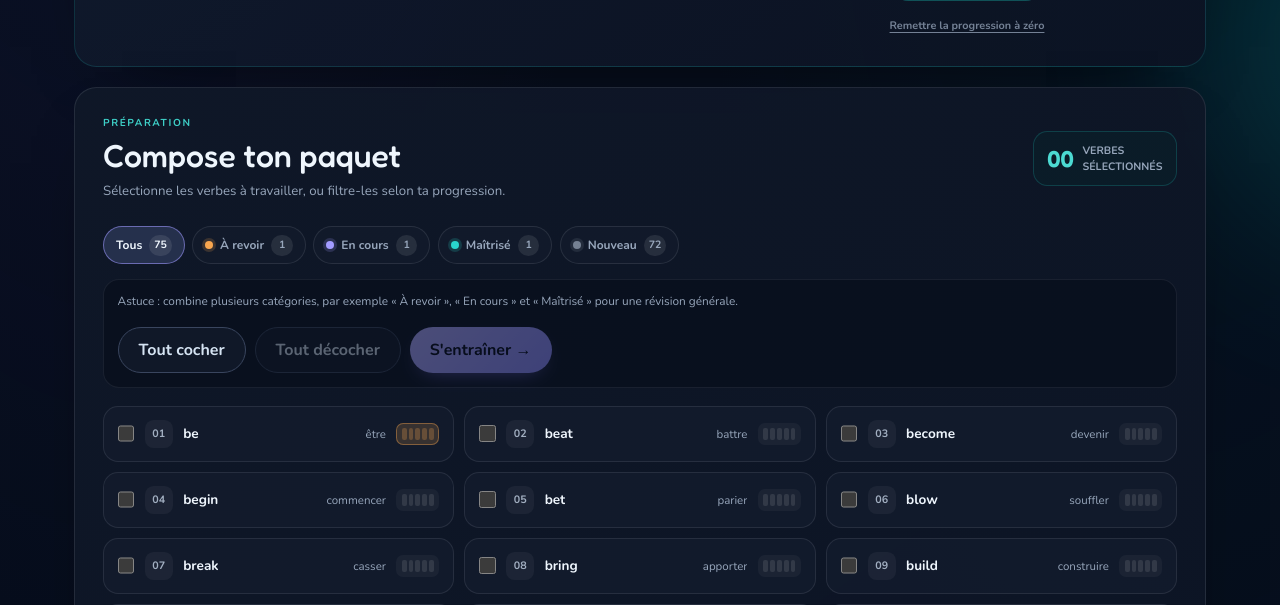
Test case: VerbApp › cumule plusieurs filtres pour une révision générale
(page scrolled)
What coordinates should you click on to do the following:
click the button "À revoir 1"
I would click on:
 (249, 245)
Its box is [192,226,306,264].
(page scrolled)
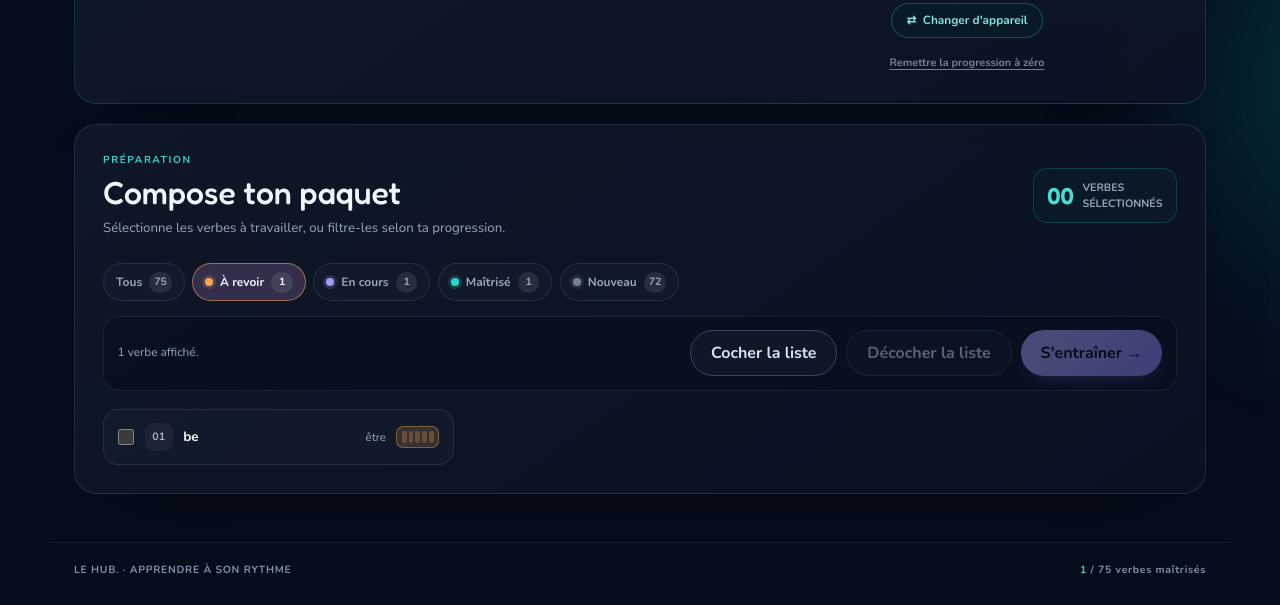
What coordinates should you click on to do the following:
click the button "En cours 1"
I would click on:
 (372, 282)
Its box is [313,263,430,301].
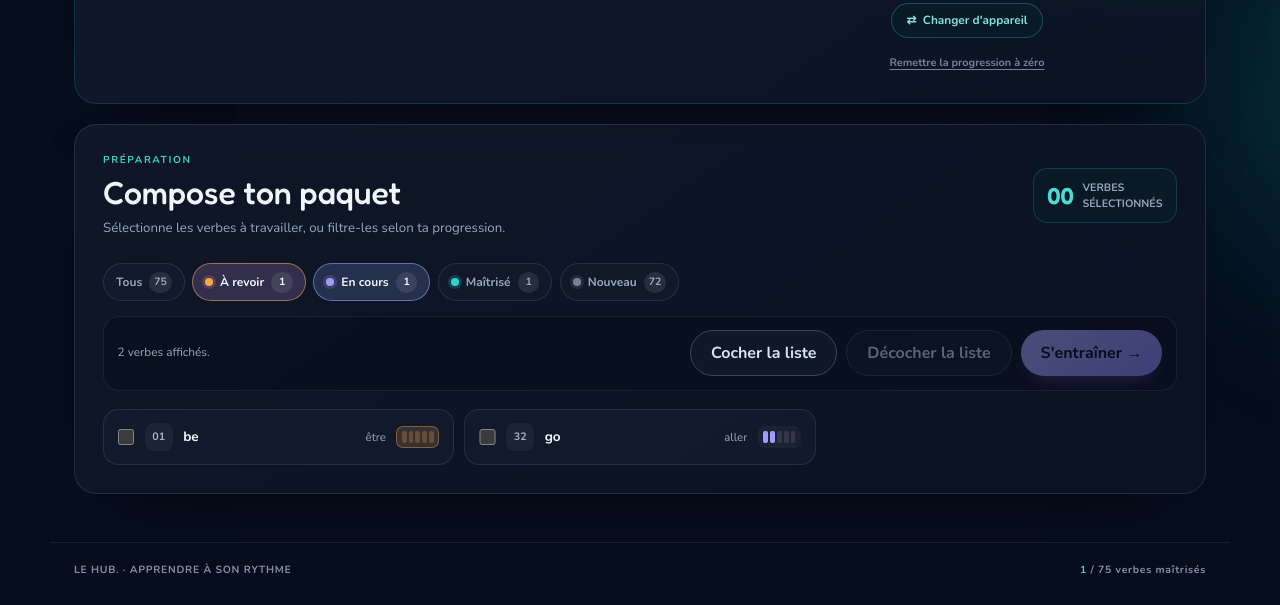
What coordinates should you click on to do the following:
click the button "Maîtrisé 1"
I would click on:
 (495, 282)
Its box is [438,263,552,301].
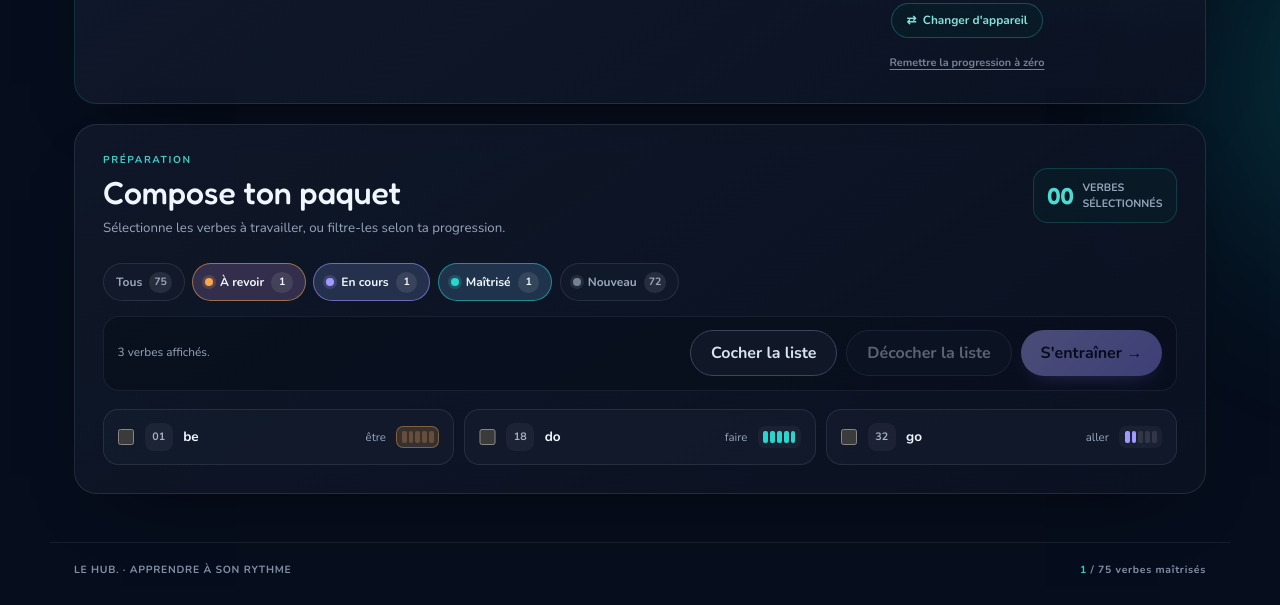
Expected: the text "3 verbes affichés." is shown, [118,344,210,362]
What coordinates should you click on to do the following:
click the button "Cocher la liste"
I would click on:
 (764, 353)
Its box is [690,330,838,376].
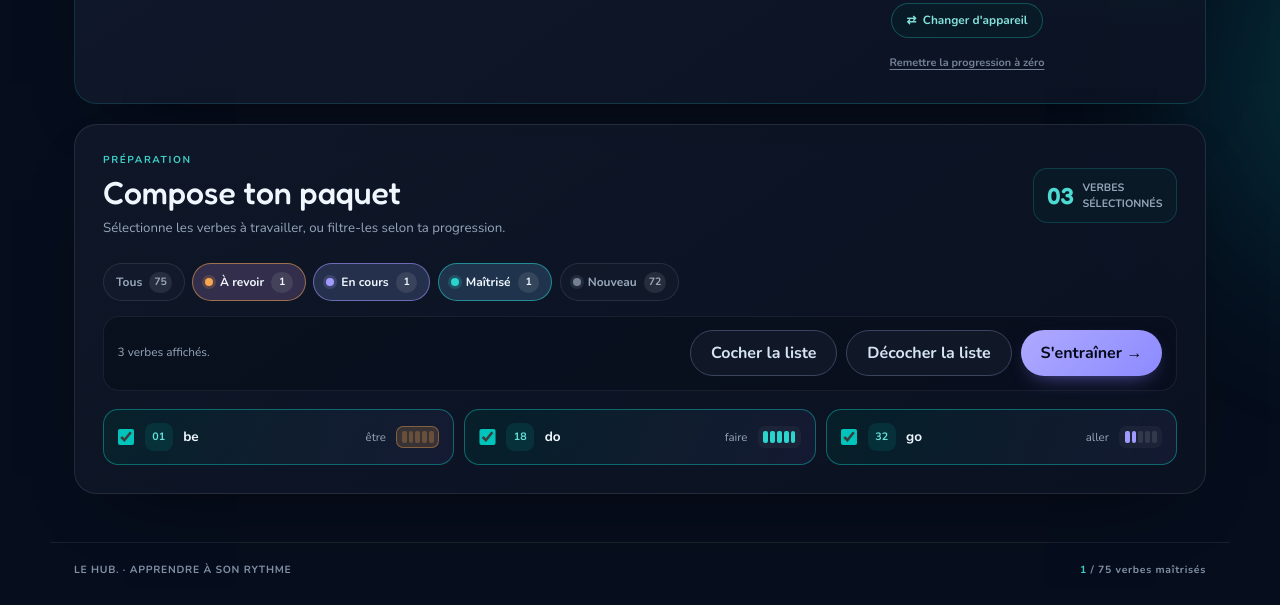
Expected: the text "03" is shown, [1047,184,1074,208]
